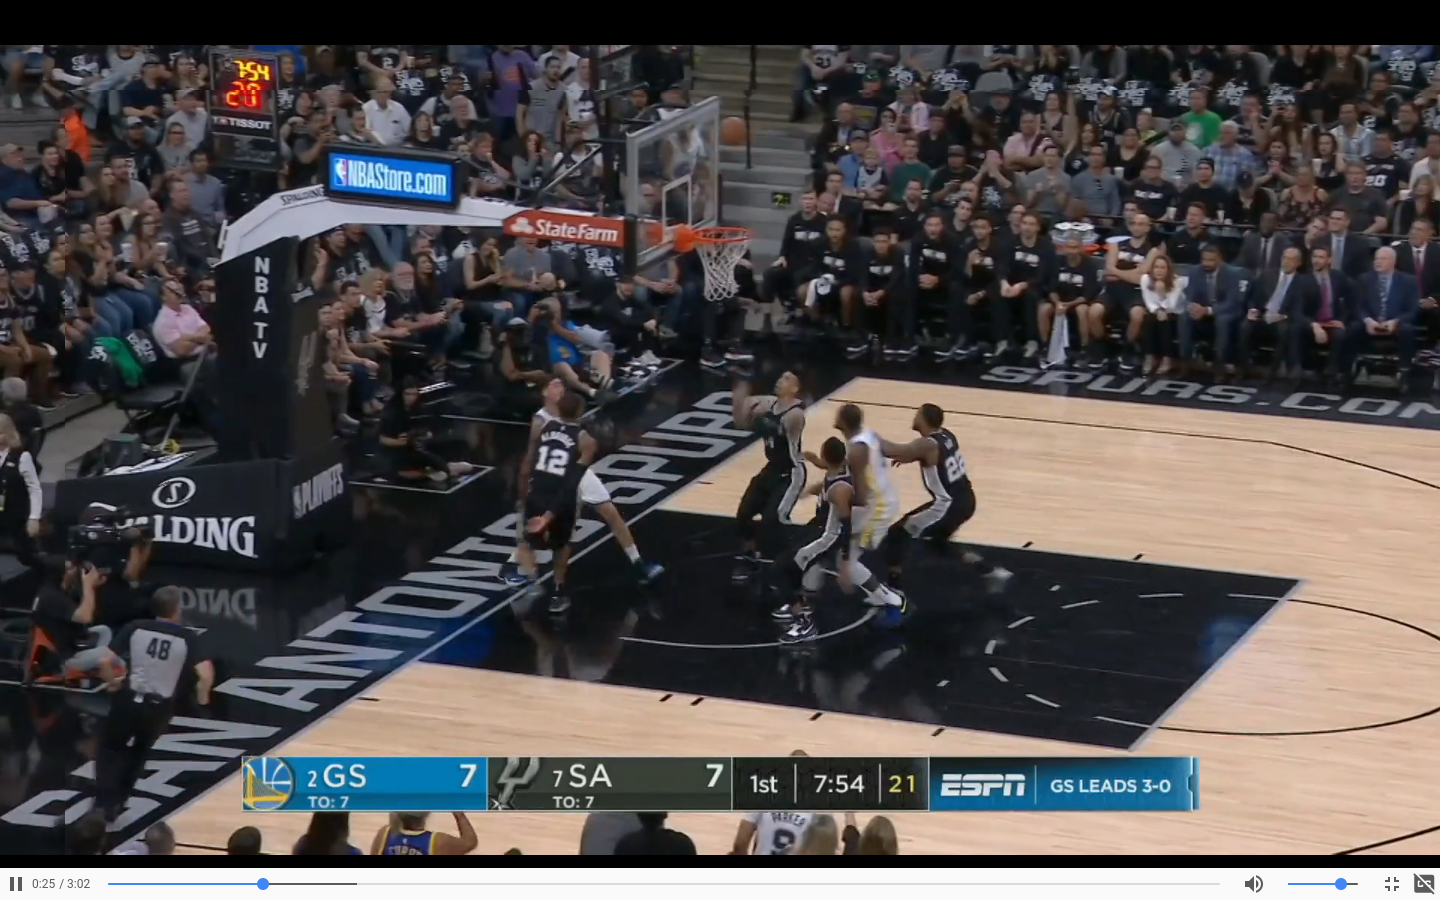basketball: (718, 111, 753, 148)
basketball player: (775, 440, 892, 643), (890, 406, 985, 579), (736, 362, 808, 571), (536, 400, 592, 622), (844, 400, 898, 577)
referee: (95, 585, 218, 819)
